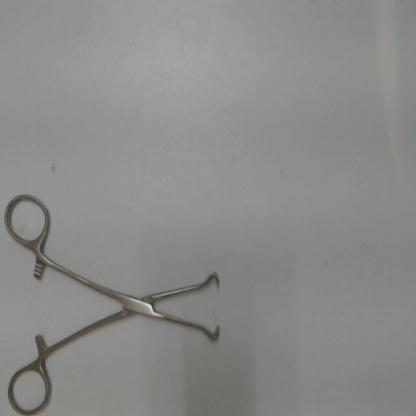Babcock Tissue Forceps: (0, 188, 226, 414)
